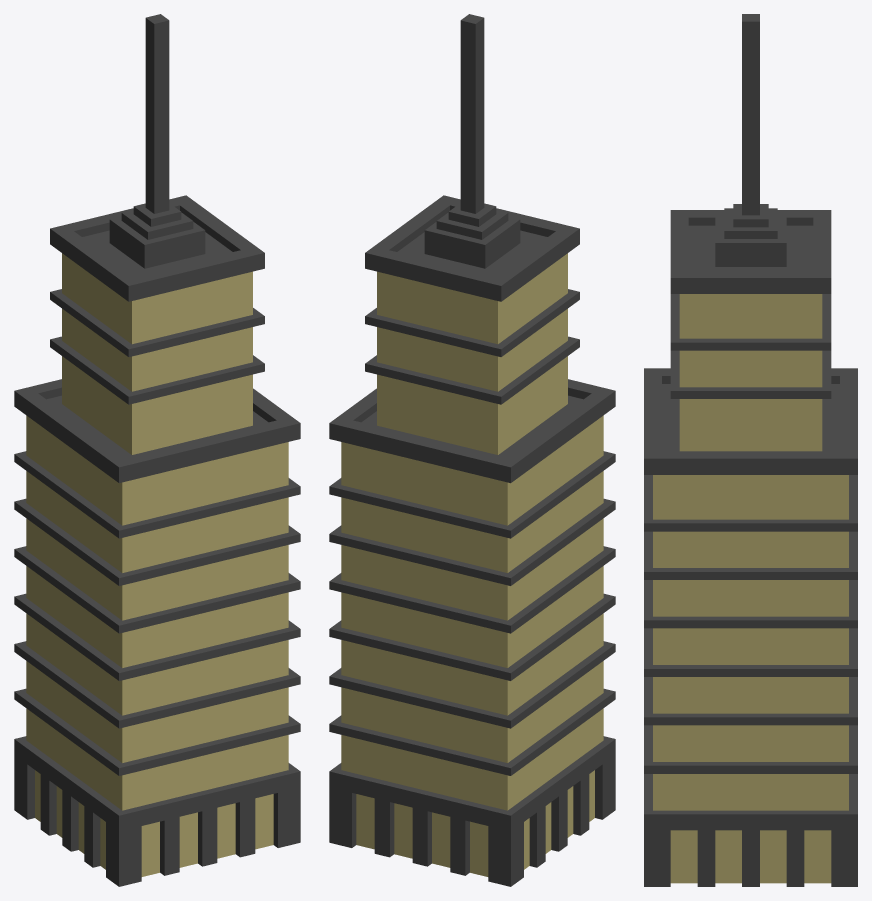
File: Building07.fbx
The picture shows the model from 3 angles, left to right: view 1: azimuth 30°, elevation 25°; view 2: azimuth 150°, elevation 25°; view 3: azimuth 270°, elevation 25°; orthographic projection. The views are drawn at different scales.
Visible parts, largest first — view 1: ObjObject.010; view 2: ObjObject.010; view 3: ObjObject.010.
Part boxes in pixels (x1,y1,x2,y2): ObjObject.010: (14, 14, 300, 886); ObjObject.010: (329, 14, 615, 886); ObjObject.010: (644, 14, 857, 886).
Bounding box in the file's own units: 240 × 240 × 1020.
1 material, 1 textured.
